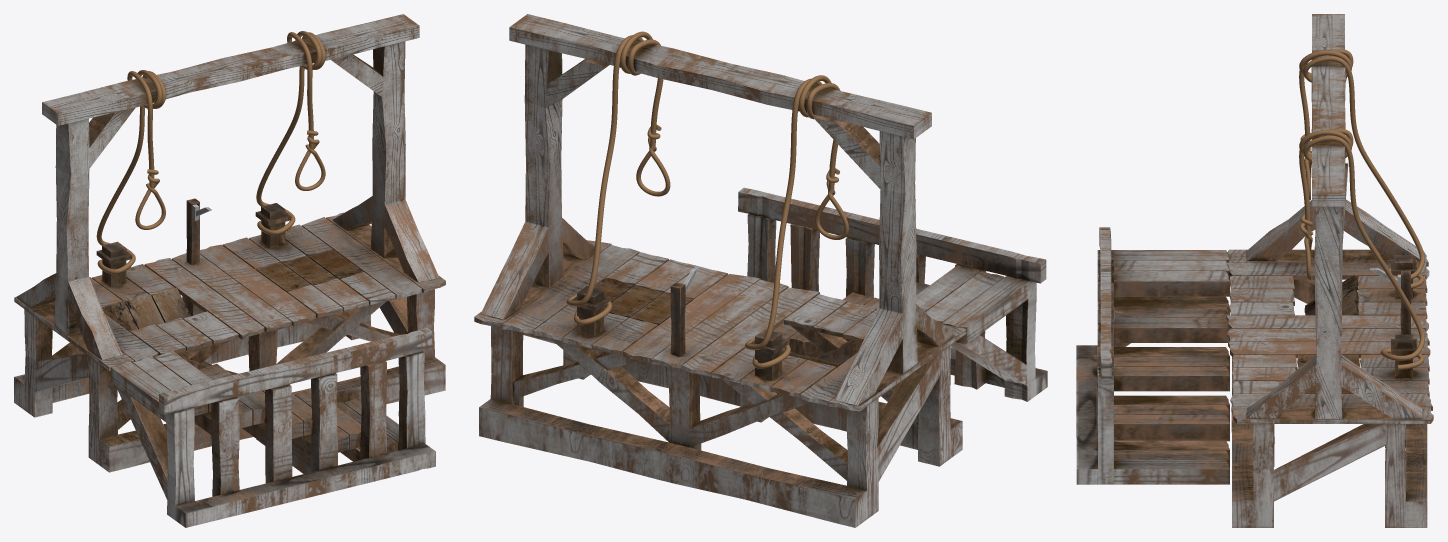
File: old_gallows.glb
3 views of the same model, side by side, from view 1: azimuth 30°, elevation 25°; view 2: azimuth 150°, elevation 25°; view 3: azimuth 270°, elevation 25° (orthographic). The views are drawn at different scales.
Parts seen in each view (by area): view 1: Cube.002, Cube, Cube.008, Cube.001, NurbsPath.001, Cube.020, Cube.003, Cube.004; view 2: Cube.001, Cube, Cube.008, Cube.002, NurbsPath.001, Cube.020, Cube.003, Cube.004; view 3: Cube.002, Cube.008, Cube, Cube.001, NurbsPath.001, Cube.003, Cube.020, Cube.004.
Boxes of the visible parts, x1,y1,x2,y2 form: Cube.002: [111, 328, 435, 527]; Cube: [16, 14, 439, 359]; Cube.008: [14, 212, 445, 370]; Cube.001: [14, 289, 445, 472]; NurbsPath.001: [96, 31, 325, 274]; Cube.020: [102, 249, 363, 332]; Cube.003: [96, 203, 290, 287]; Cube.004: [186, 198, 211, 264]; Cube.001: [479, 325, 962, 527]; Cube: [480, 14, 953, 405]; Cube.008: [474, 240, 966, 411]; Cube.002: [738, 187, 1047, 401]; NurbsPath.001: [566, 31, 848, 368]; Cube.020: [594, 278, 840, 367]; Cube.003: [571, 286, 788, 380]; Cube.004: [670, 266, 699, 356]; Cube.002: [1076, 227, 1229, 484]; Cube.008: [1226, 249, 1433, 423]; Cube: [1246, 14, 1422, 419]; Cube.001: [1231, 279, 1427, 527]; NurbsPath.001: [1299, 49, 1424, 370]; Cube.003: [1391, 255, 1417, 377]; Cube.020: [1297, 275, 1360, 393]; Cube.004: [1370, 268, 1410, 334].
Bounding box in the file's own units: 1808 × 1648 × 1515.
8 materials, 8 textured.
